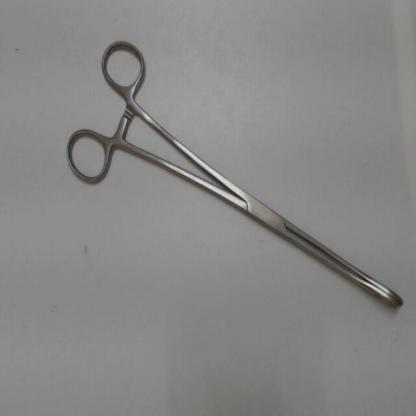Sponge Forceps: (59, 29, 406, 317)
